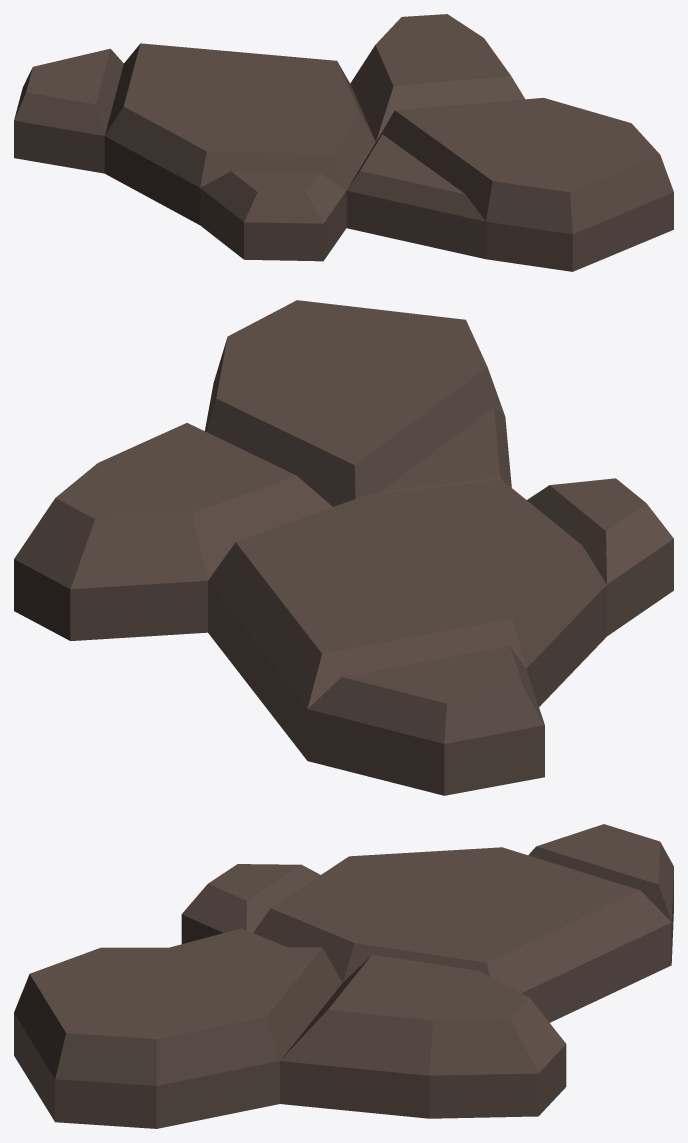
File: 17 Stone_3.FBX
The picture shows the model from 3 angles, top to bottom: view 1: azimuth 30°, elevation 25°; view 2: azimuth 150°, elevation 25°; view 3: azimuth 270°, elevation 25°; orthographic projection. The views are drawn at different scales.
Visible parts, largest first — view 1: Rock Type4 01 mesh002; view 2: Rock Type4 01 mesh002; view 3: Rock Type4 01 mesh002.
Part boxes in pixels (box(x1,y1,x2,y2)): Rock Type4 01 mesh002: box(14, 14, 673, 271); Rock Type4 01 mesh002: box(14, 300, 673, 795); Rock Type4 01 mesh002: box(14, 824, 673, 1128).
Bounding box in the file's own units: 813 × 138 × 935.
